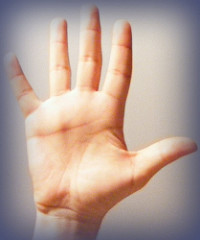palm: (28, 98, 146, 205)
